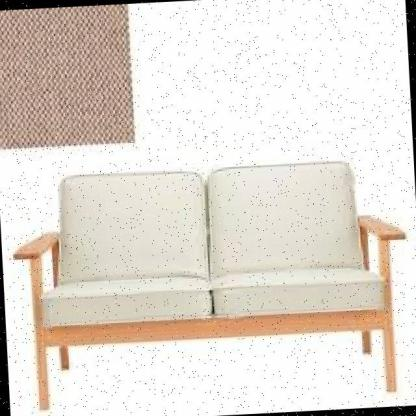Sofa: (0, 141, 416, 416)
